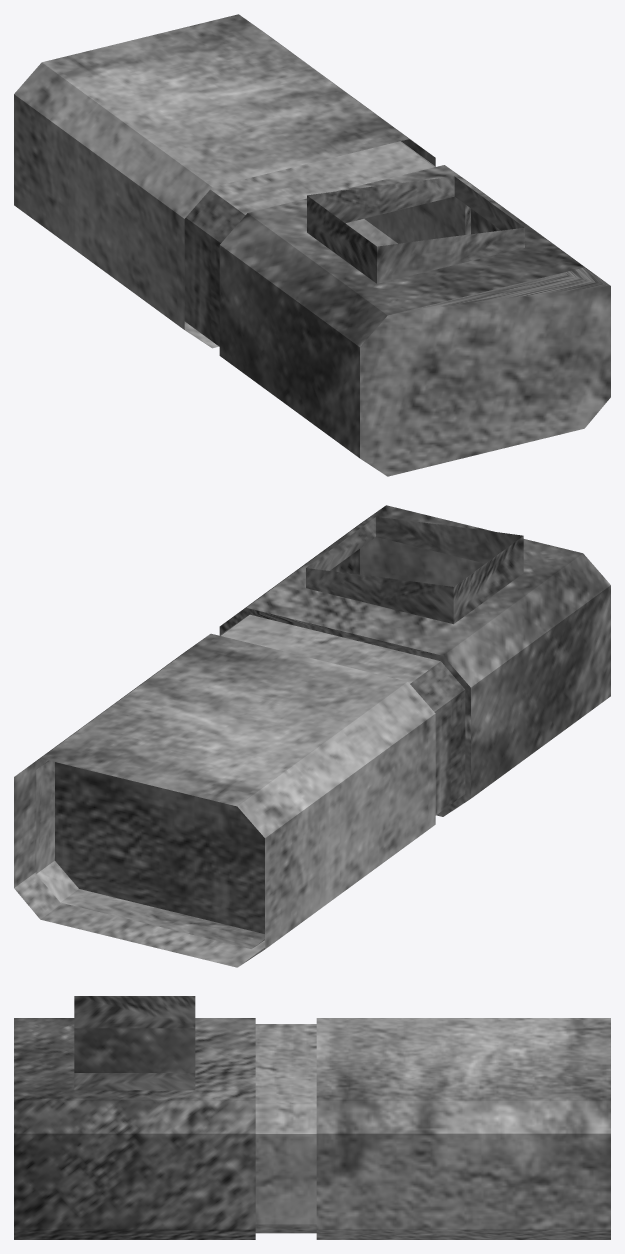
Rendered from ship.obj.
The picture shows the model from 3 angles, top to bottom: view 1: azimuth 30°, elevation 25°; view 2: azimuth 150°, elevation 25°; view 3: azimuth 270°, elevation 25°; orthographic projection. The views are drawn at different scales.
Parts seen in each view (by area): view 1: Cube.001; view 2: Cube.001; view 3: Cube.001.
Part boxes in pixels (box(x1,y1,x2,y2)): Cube.001: box(14, 14, 610, 476); Cube.001: box(14, 505, 610, 967); Cube.001: box(14, 996, 610, 1239).
Bounding box in the file's own units: 1.76 × 1.33 × 4.2.
